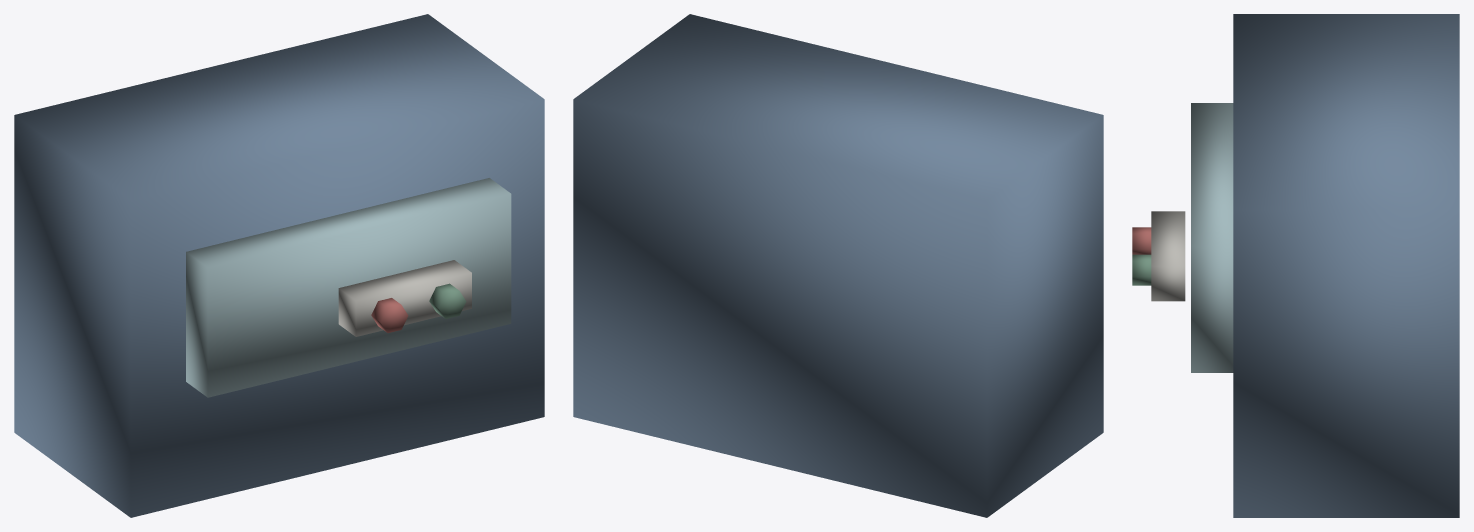
File: price_checker__deep.glb
3 renders of one model, left to right at view 1: azimuth 30°, elevation 25°; view 2: azimuth 150°, elevation 25°; view 3: azimuth 270°, elevation 25°, orthographic. The views are drawn at different scales.
Visible parts, largest first — view 1: world; view 2: world; view 3: world.
Part boxes in pixels (<box>): world: <box>14,14,544,517</box>; world: <box>573,14,1103,517</box>; world: <box>1132,14,1459,517</box>.
Size of the model in its own units: 0.3 by 0.22 by 0.2117.
